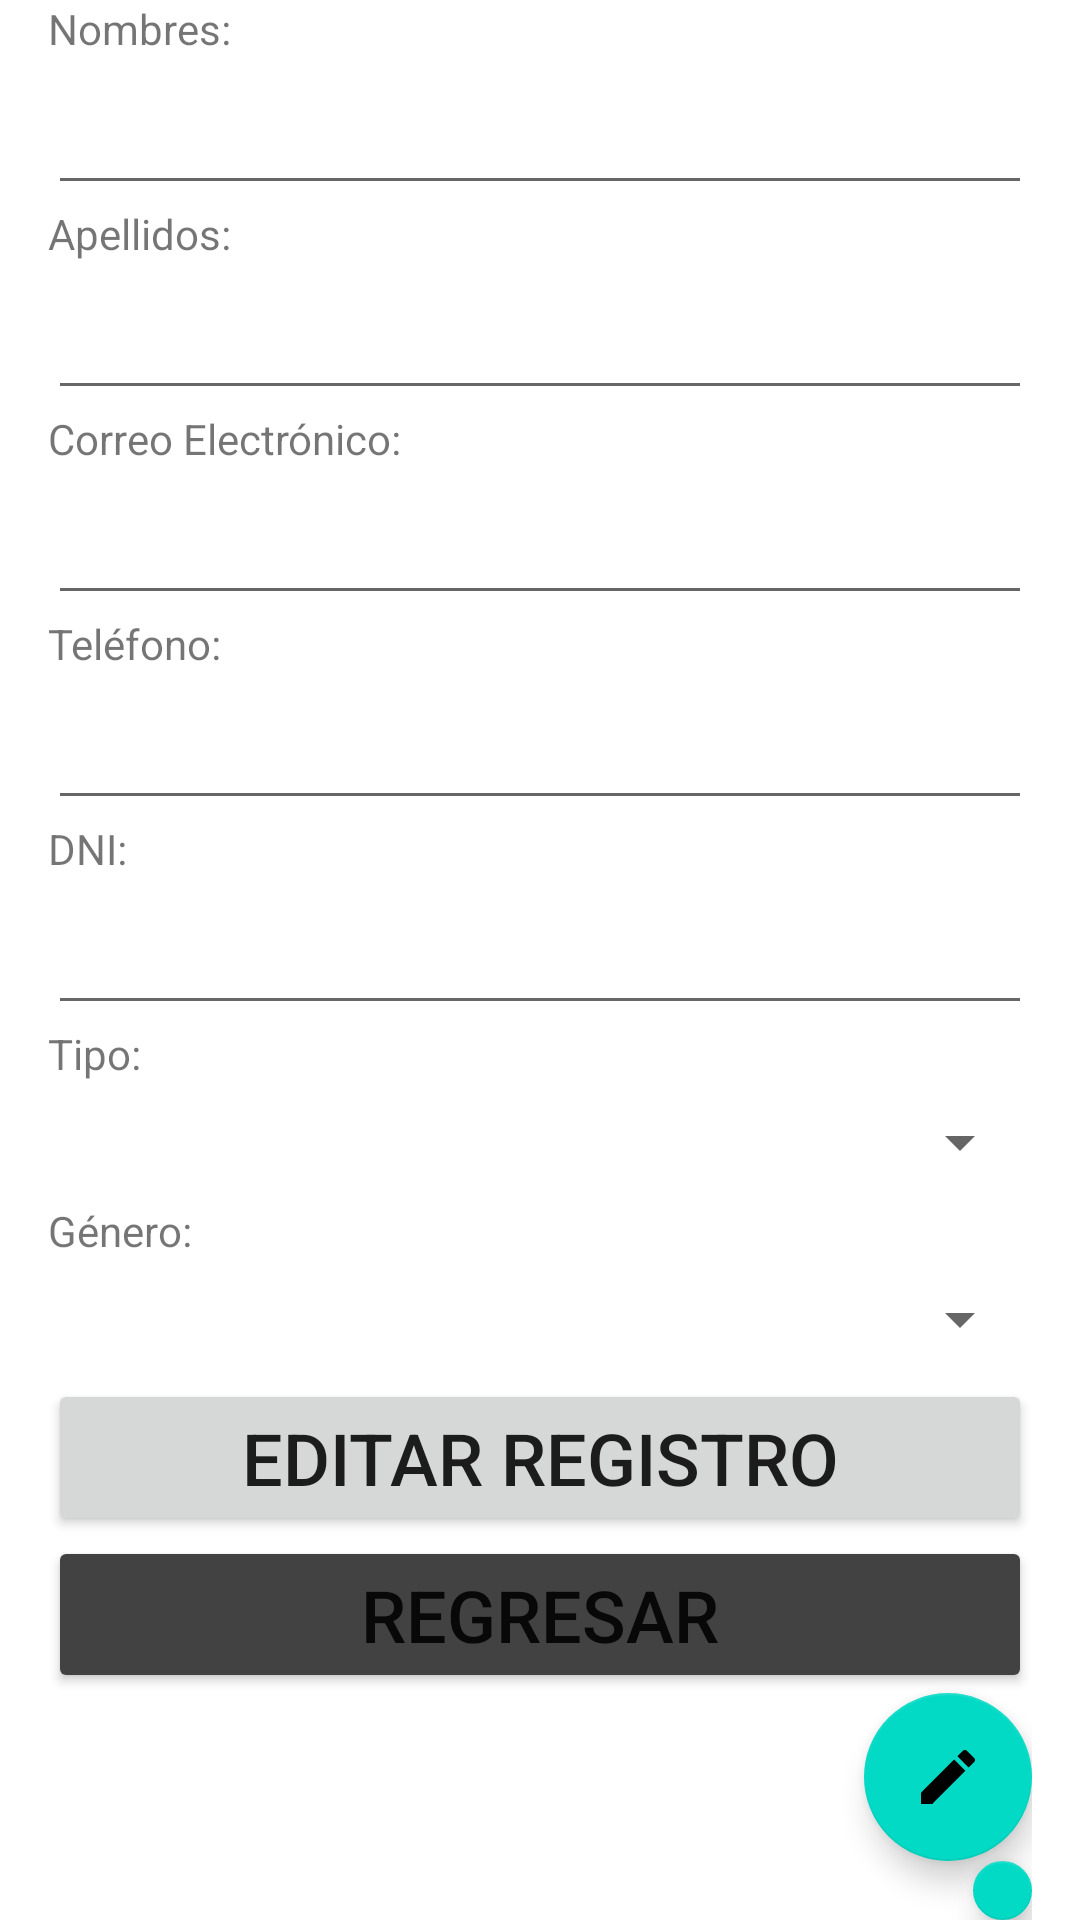

Where icons sit on this 1080w x 1920h app screen, as (x1, y1, x2, y2):
edit: (864, 1693, 1032, 1861)
